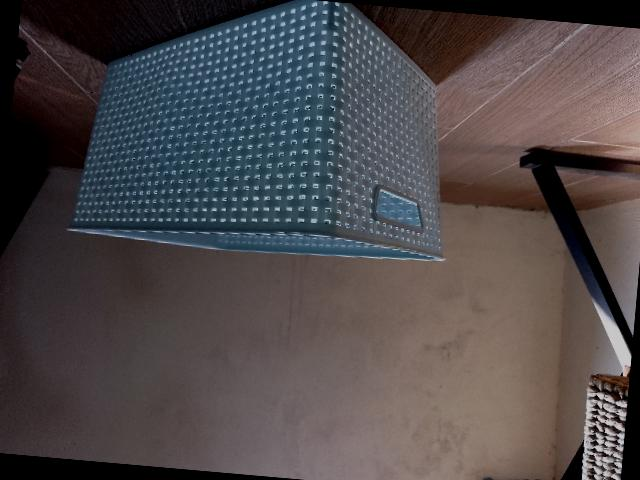cart: (64, 0, 445, 260)
